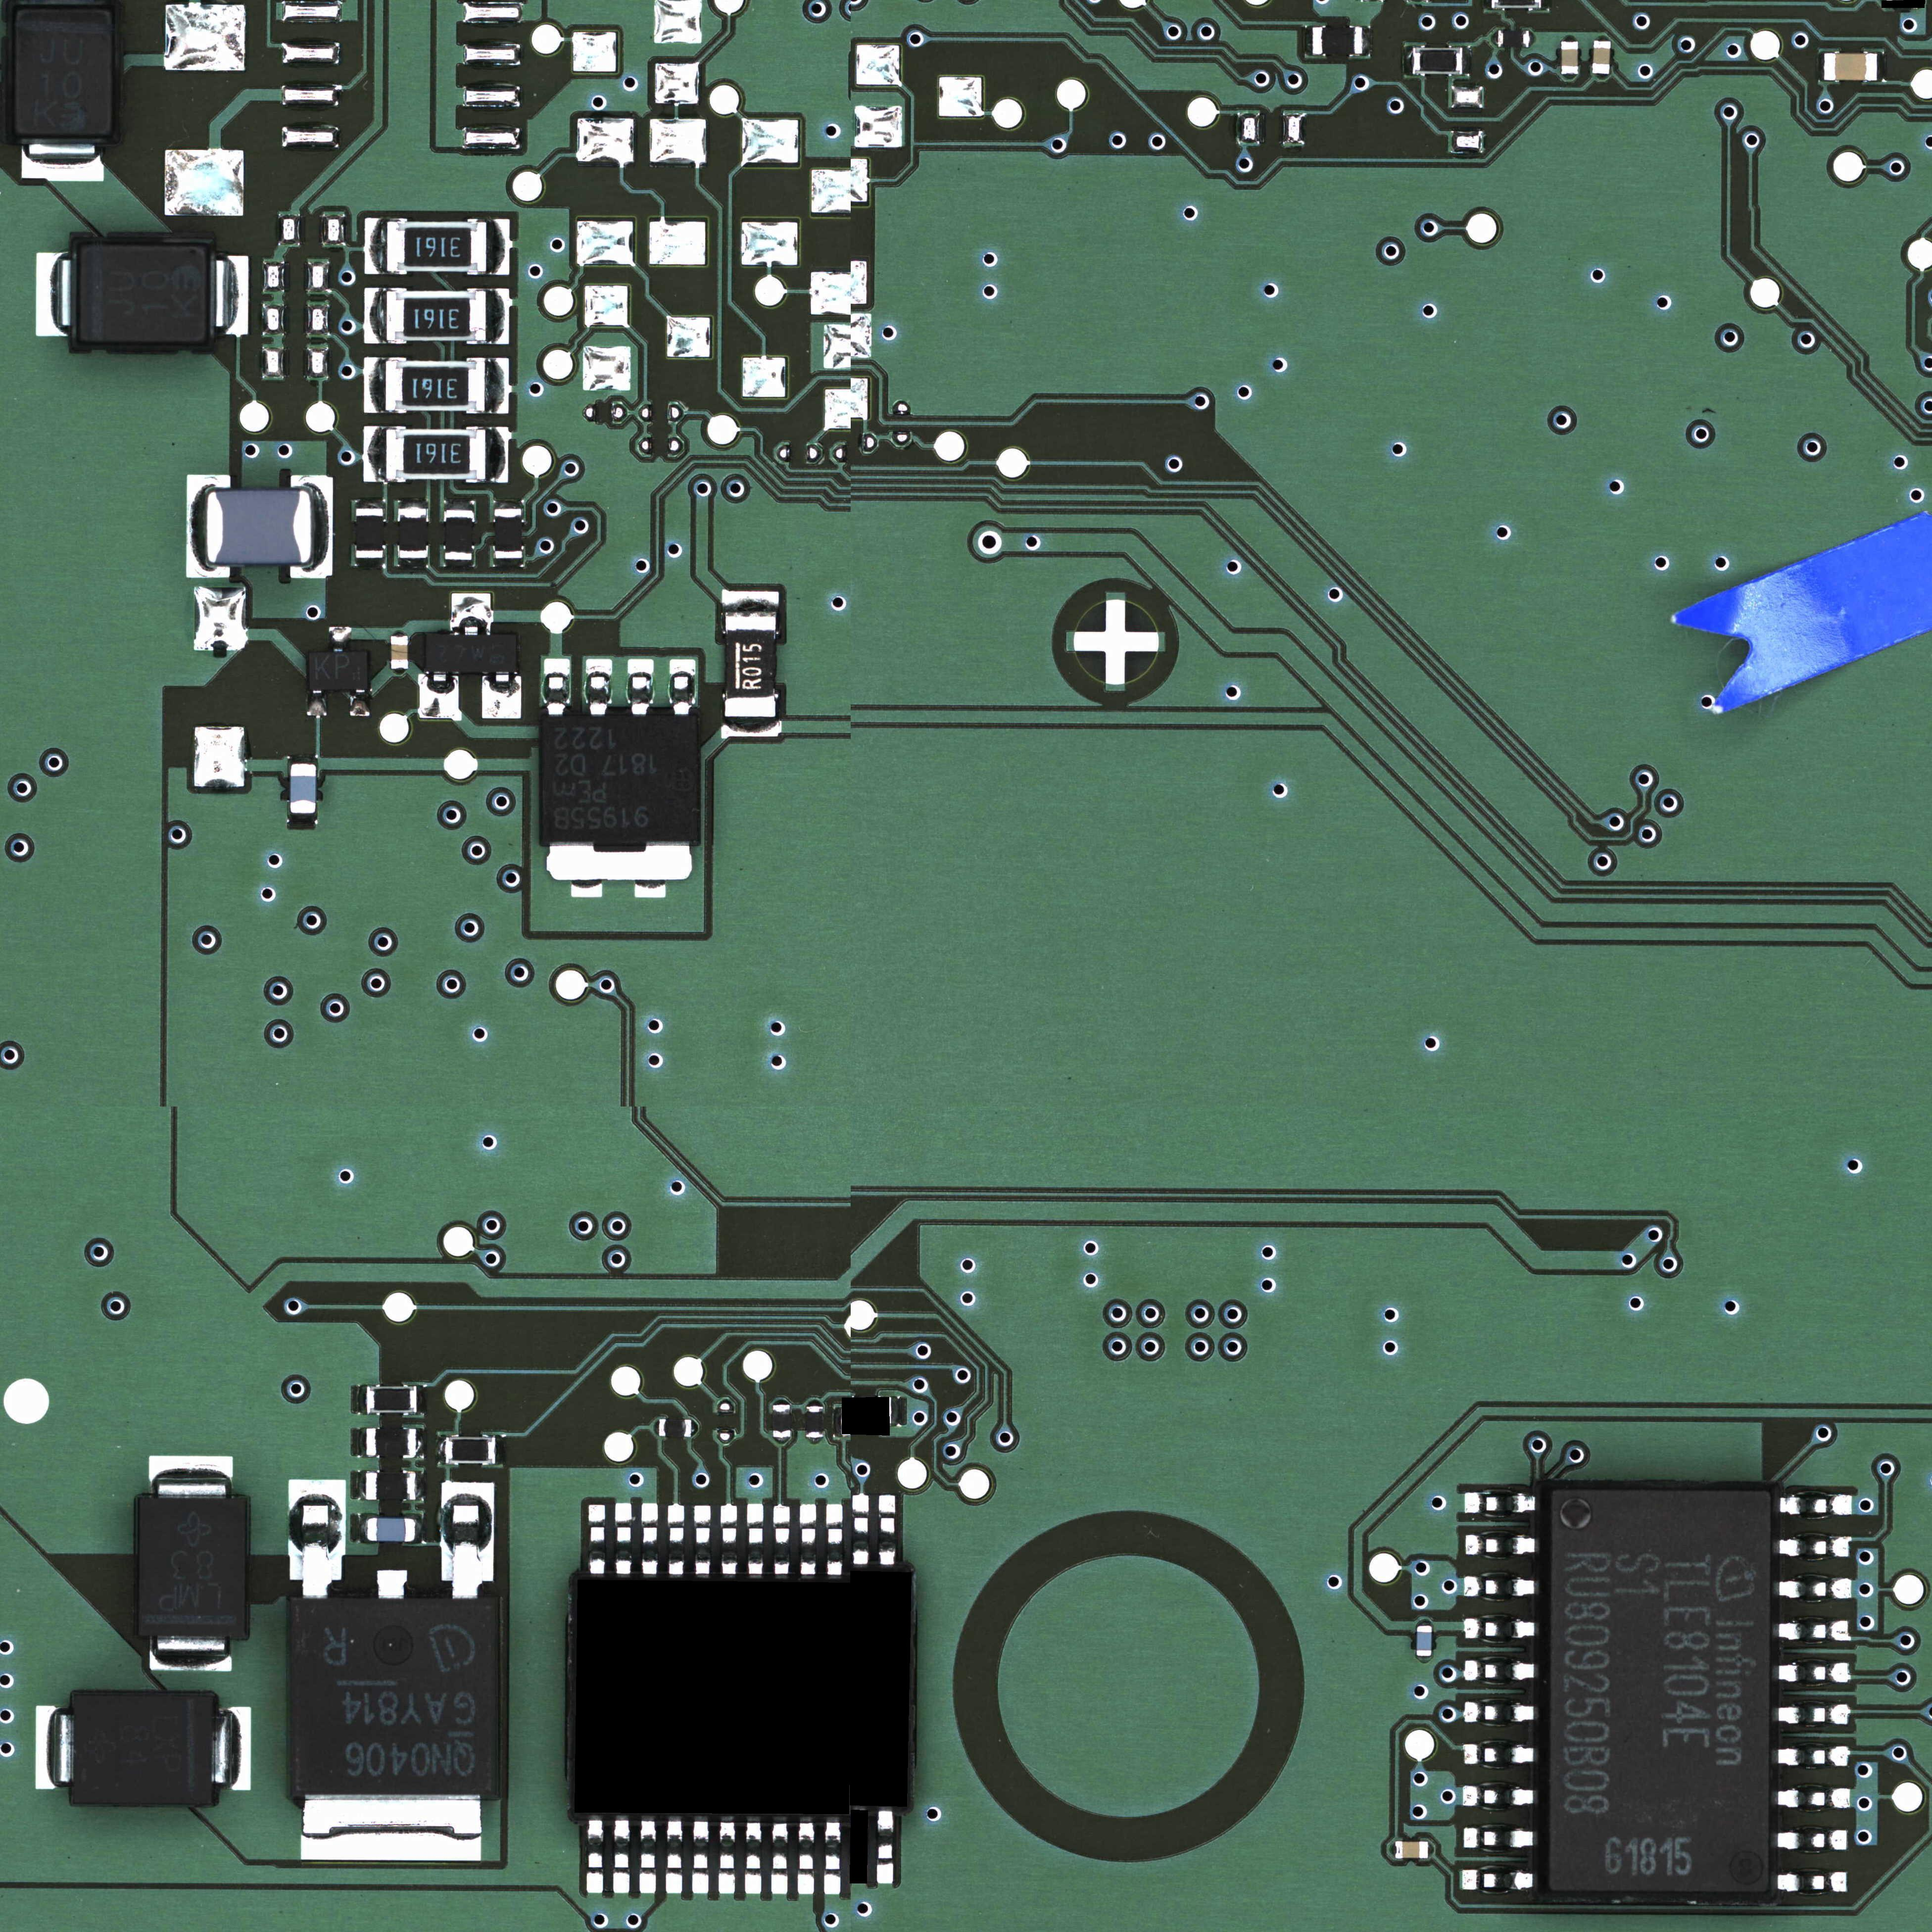Package: (1550, 1490, 1771, 1895), (288, 1599, 495, 1794), (541, 718, 697, 840), (74, 1693, 212, 1803), (138, 1497, 246, 1635), (11, 5, 115, 142), (80, 246, 207, 343), (205, 488, 313, 563), (386, 428, 485, 481), (386, 290, 487, 341), (386, 221, 487, 272), (725, 616, 777, 717), (386, 361, 487, 410), (425, 635, 518, 672), (308, 651, 368, 690), (366, 1428, 416, 1458), (1824, 53, 1877, 80), (444, 510, 472, 559), (494, 508, 522, 557), (356, 508, 384, 557), (398, 508, 426, 557), (366, 1472, 416, 1499), (1313, 27, 1362, 53), (444, 1438, 495, 1463), (290, 764, 315, 814), (366, 1387, 416, 1412), (1414, 48, 1463, 73), (366, 1518, 416, 1541), (389, 635, 409, 669), (658, 1417, 690, 1437), (1592, 41, 1610, 74), (1560, 41, 1578, 74), (1396, 1840, 1428, 1858), (773, 1405, 791, 1437), (1415, 1626, 1431, 1656), (807, 1407, 823, 1437), (1499, 30, 1529, 46)
Solder: (301, 1794, 481, 1861), (547, 840, 692, 897), (288, 1479, 345, 1599), (441, 1481, 494, 1599), (149, 1456, 232, 1497), (37, 253, 78, 336), (212, 1707, 251, 1789), (209, 257, 248, 336), (35, 1706, 73, 1789), (23, 145, 103, 182), (150, 1637, 234, 1672), (313, 476, 333, 579), (418, 672, 460, 718), (188, 474, 205, 577), (1463, 1490, 1536, 1514), (1778, 1660, 1851, 1684), (1776, 1787, 1852, 1810), (483, 672, 520, 718), (1778, 1578, 1852, 1601), (543, 658, 571, 718), (1778, 1702, 1851, 1725), (1461, 1868, 1534, 1891), (1778, 1536, 1851, 1559), (1780, 1493, 1852, 1516), (1778, 1744, 1851, 1767), (1776, 1828, 1849, 1851), (1778, 1619, 1851, 1642), (1461, 1785, 1534, 1808), (1776, 1870, 1847, 1893), (1463, 1700, 1534, 1723), (1463, 1660, 1534, 1683), (1463, 1743, 1534, 1766), (1463, 1826, 1534, 1849), (1463, 1617, 1534, 1640), (451, 593, 490, 633), (584, 658, 610, 717), (1463, 1576, 1536, 1598), (1465, 1534, 1536, 1555), (669, 660, 695, 717), (628, 660, 653, 715), (487, 357, 510, 414), (722, 591, 778, 614), (720, 717, 780, 738), (487, 288, 510, 343), (773, 1506, 791, 1575), (747, 1506, 764, 1575), (364, 218, 386, 274), (488, 219, 510, 276), (487, 426, 508, 483), (878, 1810, 893, 1884), (640, 1821, 656, 1895), (364, 288, 386, 343), (364, 426, 386, 481), (824, 1822, 840, 1895), (771, 1822, 787, 1895), (826, 1504, 842, 1575), (800, 1504, 816, 1575), (642, 1504, 658, 1575), (616, 1504, 632, 1575), (798, 1824, 814, 1895), (745, 1824, 761, 1895), (718, 1822, 734, 1893), (879, 1495, 895, 1564), (853, 1495, 869, 1564), (722, 1506, 738, 1575), (695, 1506, 711, 1575), (669, 1506, 685, 1575), (589, 1504, 605, 1573), (364, 357, 384, 412), (587, 1819, 602, 1893), (667, 1822, 681, 1895), (694, 1822, 708, 1895), (614, 1821, 628, 1893), (377, 1569, 407, 1598), (349, 690, 370, 717), (331, 628, 350, 651), (308, 690, 326, 715), (396, 557, 428, 568), (287, 814, 317, 824), (490, 559, 524, 568), (444, 499, 476, 508), (492, 499, 524, 508), (1304, 25, 1313, 57), (354, 499, 384, 508), (1362, 25, 1371, 55), (287, 754, 317, 763), (1405, 44, 1414, 74), (1815, 51, 1824, 81), (892, 1396, 901, 1426), (832, 1407, 840, 1437), (495, 1437, 504, 1465), (1463, 46, 1472, 74), (396, 499, 430, 506), (442, 561, 474, 568), (354, 559, 386, 566), (1879, 51, 1886, 81), (437, 1435, 444, 1465), (418, 1385, 425, 1415), (416, 1514, 423, 1543), (416, 1430, 423, 1458), (359, 1514, 366, 1543), (416, 1472, 423, 1500), (359, 1385, 366, 1414), (359, 1428, 364, 1458), (359, 1472, 364, 1500), (1387, 1840, 1394, 1859), (391, 669, 409, 676), (653, 1417, 660, 1435), (1594, 34, 1612, 41), (1430, 1840, 1437, 1858), (773, 1437, 791, 1444), (1560, 34, 1578, 41), (1592, 74, 1610, 81), (1529, 30, 1536, 46), (807, 1437, 823, 1444), (692, 1417, 697, 1438), (807, 1399, 823, 1407), (389, 630, 409, 635), (1417, 1658, 1430, 1665), (1417, 1619, 1433, 1624), (1491, 30, 1497, 46), (773, 1399, 789, 1405), (1562, 74, 1578, 80)
